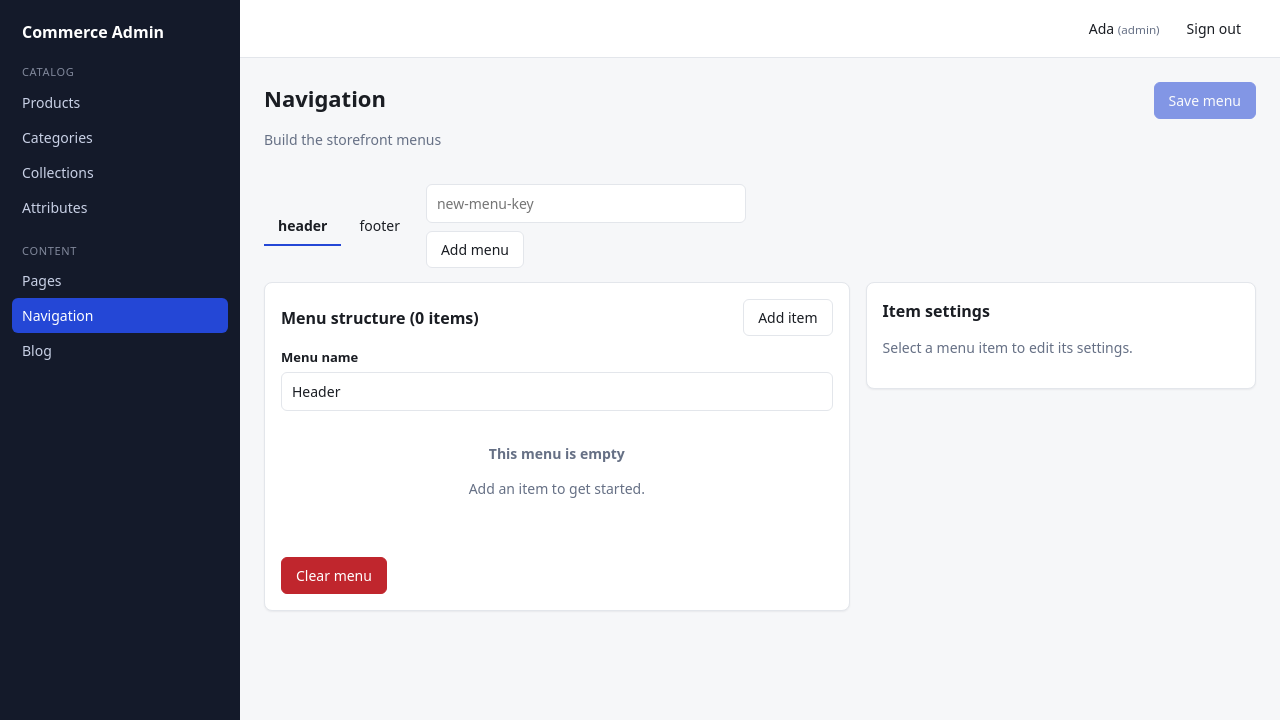
it: navigation builder › refuses to save an incomplete item
Check: the text "This menu is empty" is shown, box [489,444,625,462]
Click the button "Add item" at (788, 318), box [743,299,833,336]
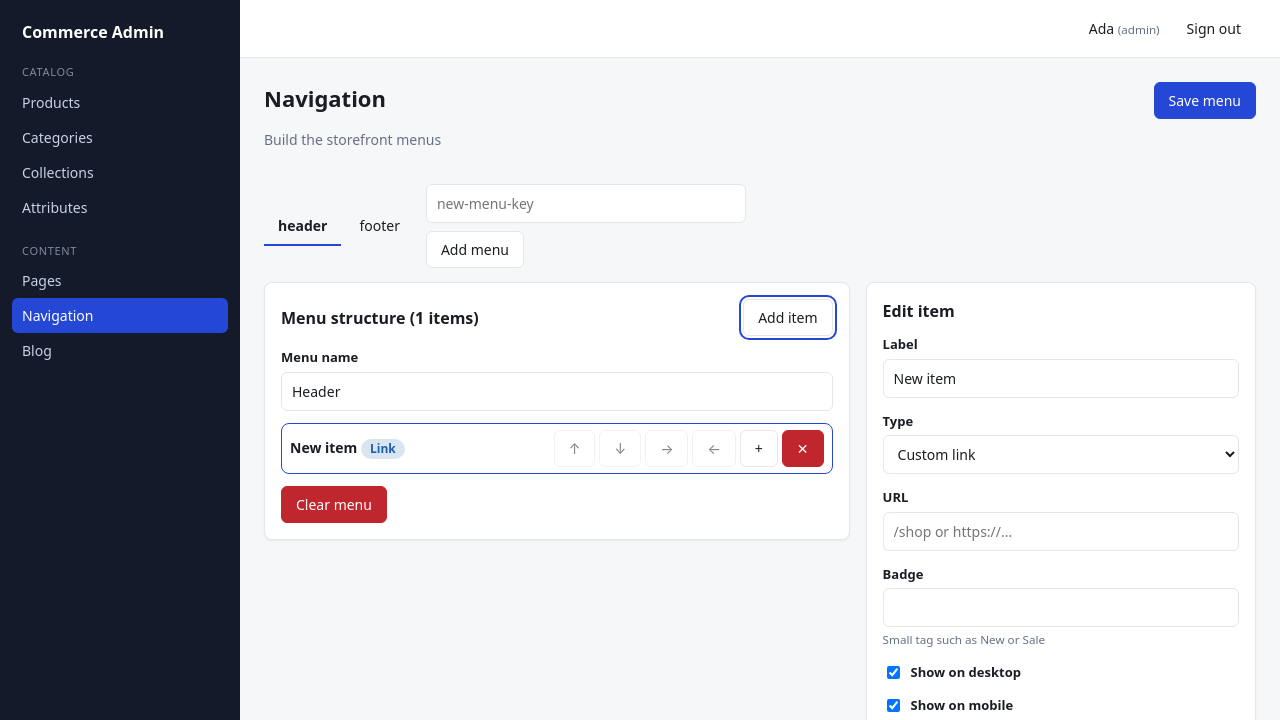
Click the button "Save menu" at (1205, 100), box [1154,82,1256,119]
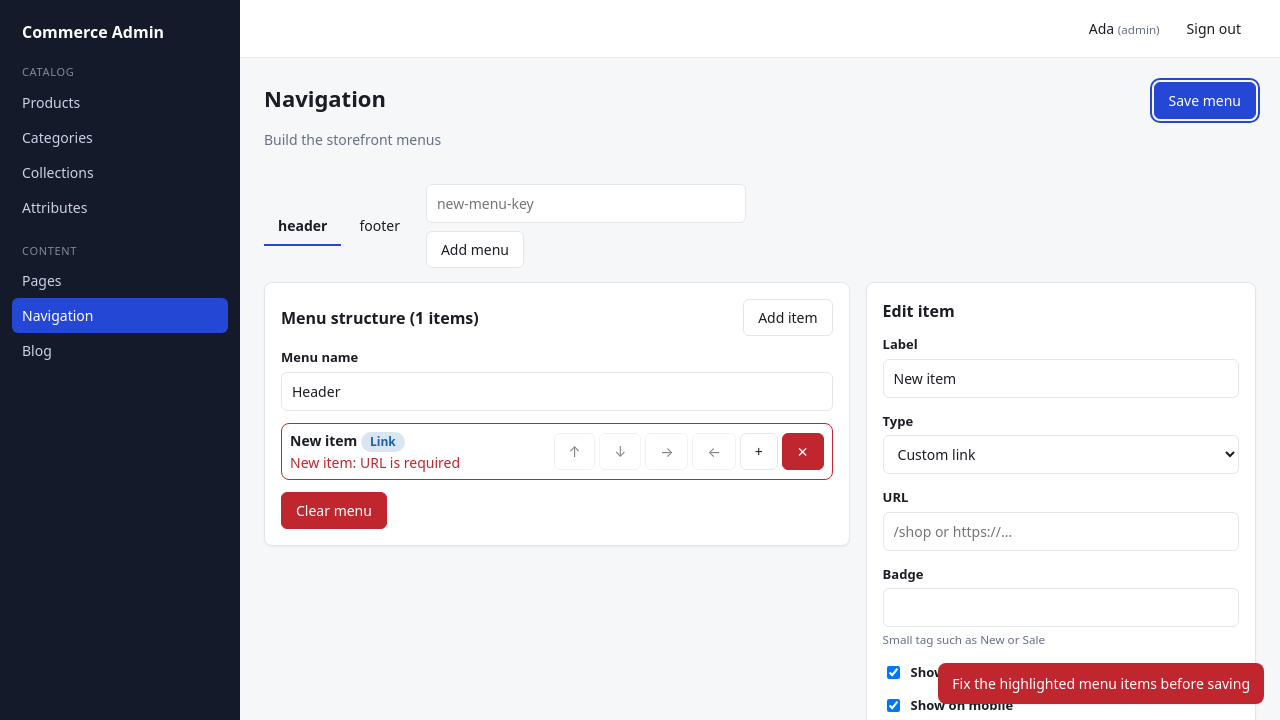
Check: the text "New item: URL is required" is shown, box [290,452,460,472]
